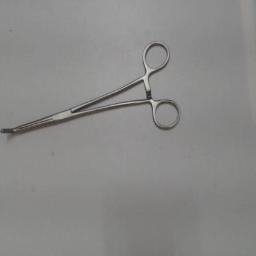Lahey Forceps: (0, 37, 184, 139)
